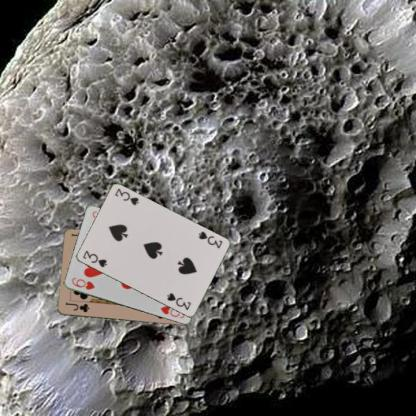3s: (80, 248, 108, 269), (196, 228, 223, 249)
6h: (69, 275, 96, 291)
Jc: (63, 300, 90, 314)
